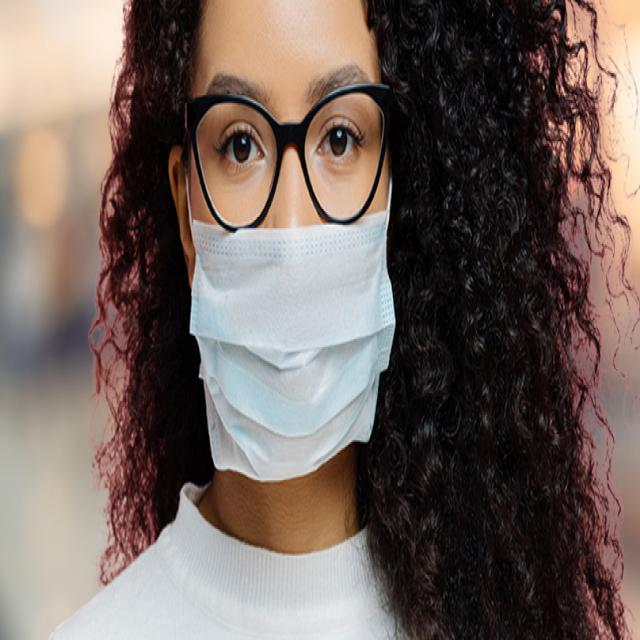Glasses: (180, 77, 394, 239)
